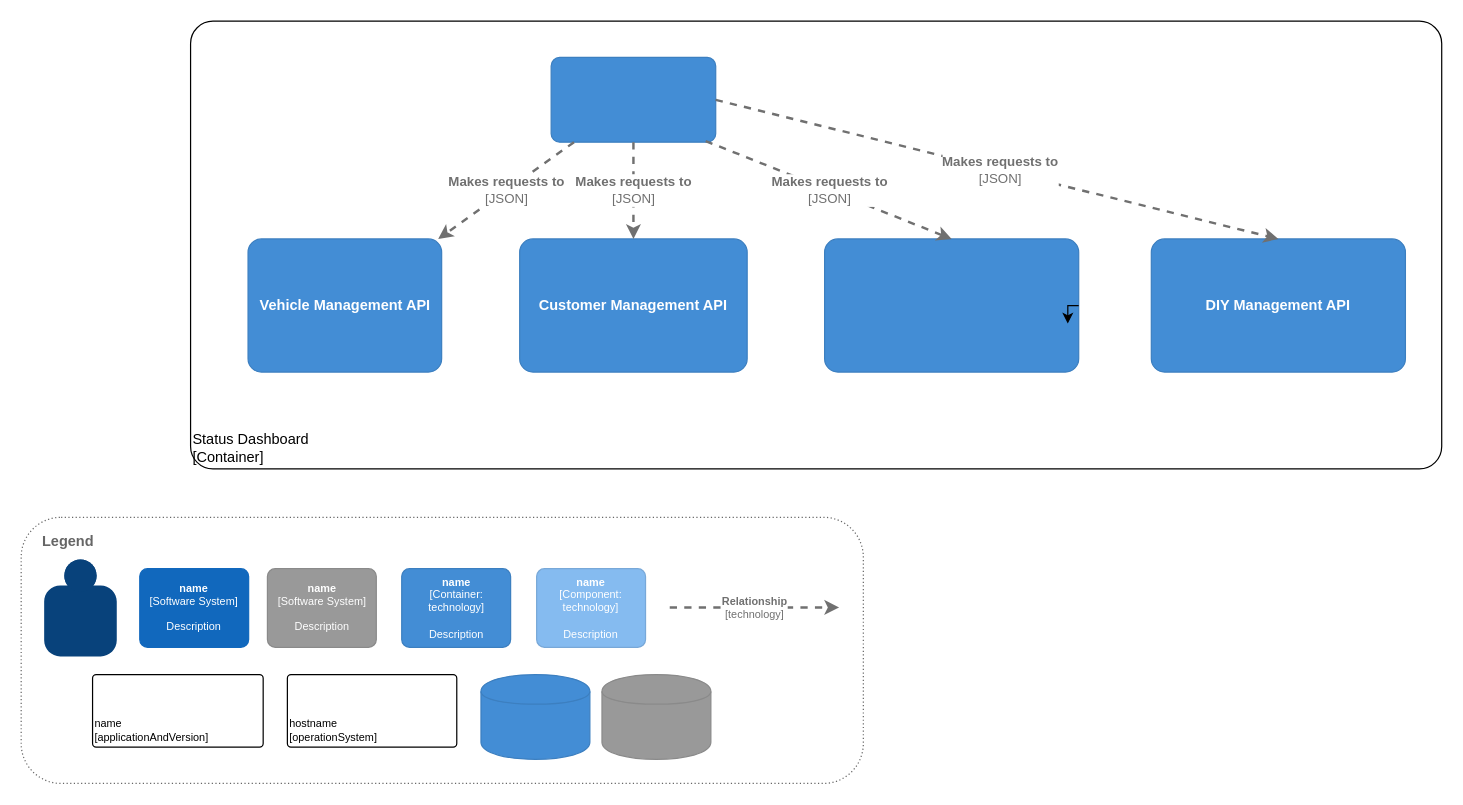
The diagram is 1463 pixels wide and 805 high, and some of its shapes have lost their labels. Here are the shapes that lost their labels. From the top down, the centre of each, then its label:
At point 633,99: "PitStop Web app".
At point 951,305: "Workshop Management API".
At point 80,607: "name [Person] Description".
At point 535,716: "Database [Container: Technology] Description".
At point 656,716: "Database [Container: Technology] External".
